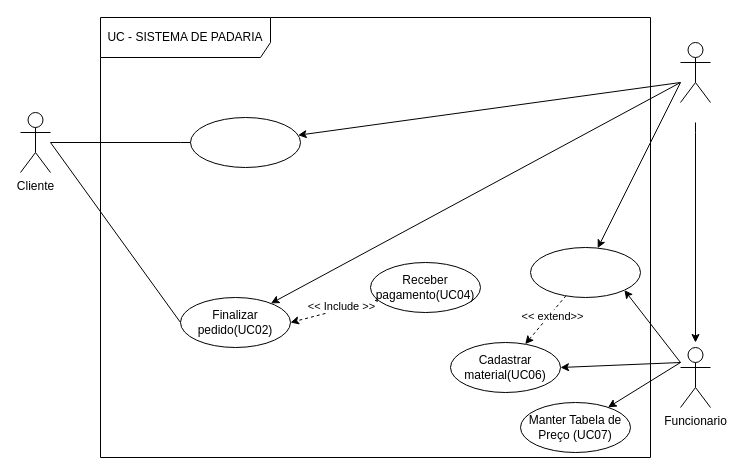
Image size: 744x475. Some labels were removed from this diagram. The centre of each missing label's shape, as x and y in pixels:
Atendente: the point at 695,72
Consultar estoque(UC05): the point at 585,272
Realizar Pedido(UC01): the point at 245,142
